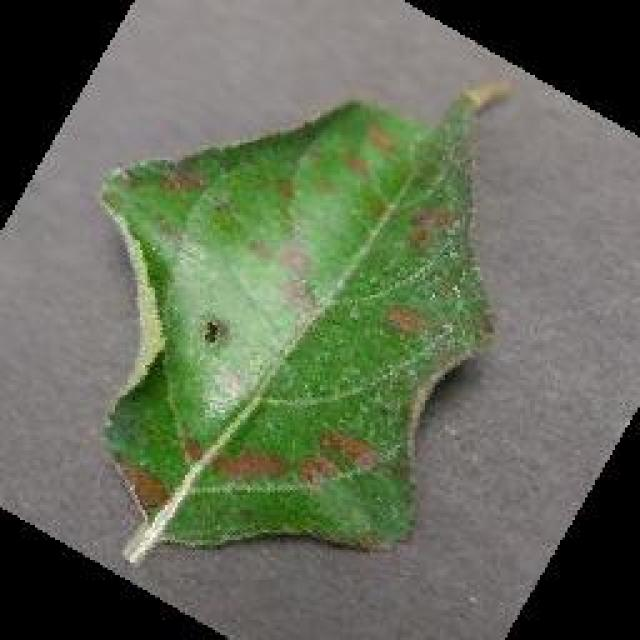apple healthy: (95, 78, 513, 562)
